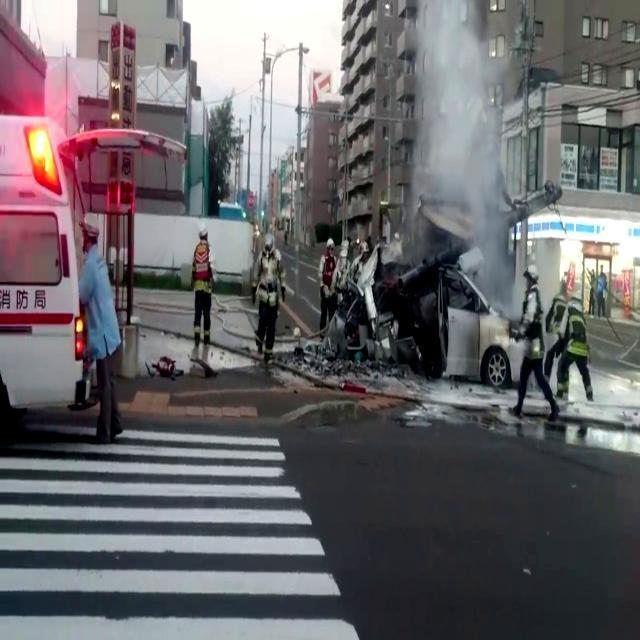Smoke: (409, 0, 529, 296)
